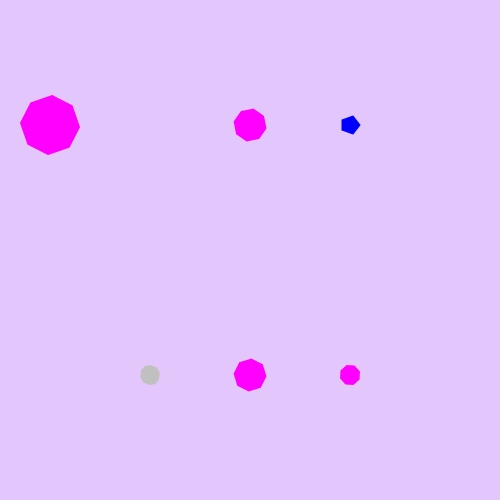decagon: (135, 361, 165, 389)
octagon: (17, 92, 84, 159), (230, 105, 271, 146), (230, 355, 271, 396), (335, 360, 365, 390)
pentagon: (336, 111, 364, 139)
